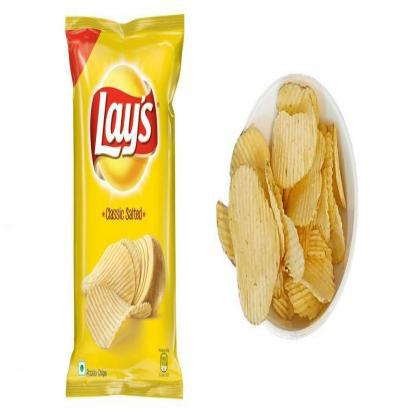classicsalted: (64, 12, 184, 399)
